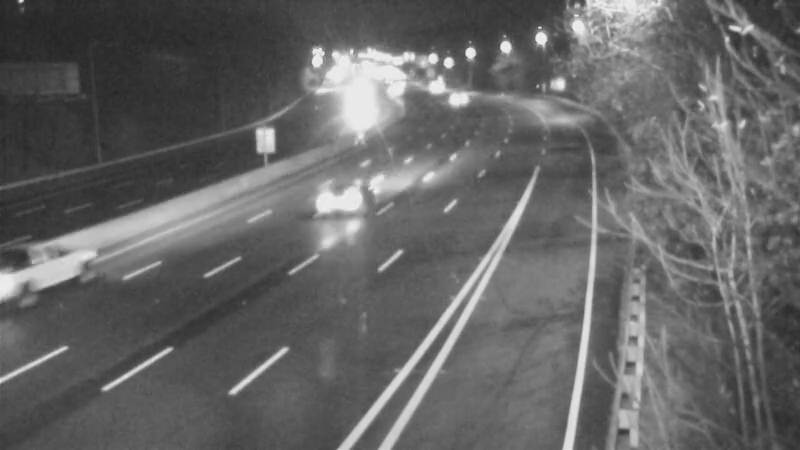vehicle: (294, 161, 374, 241), (1, 233, 77, 313), (404, 60, 454, 110), (429, 69, 479, 119)
